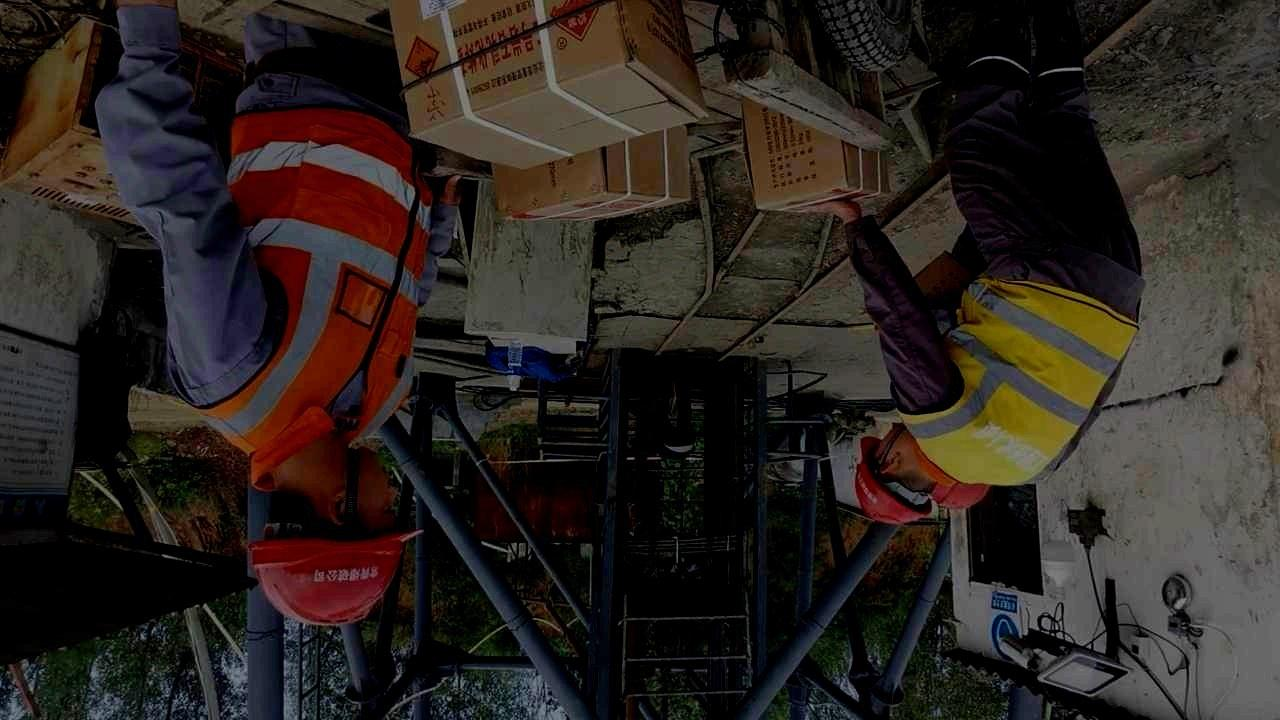helmet: (245, 445, 425, 625), (854, 421, 939, 524)
